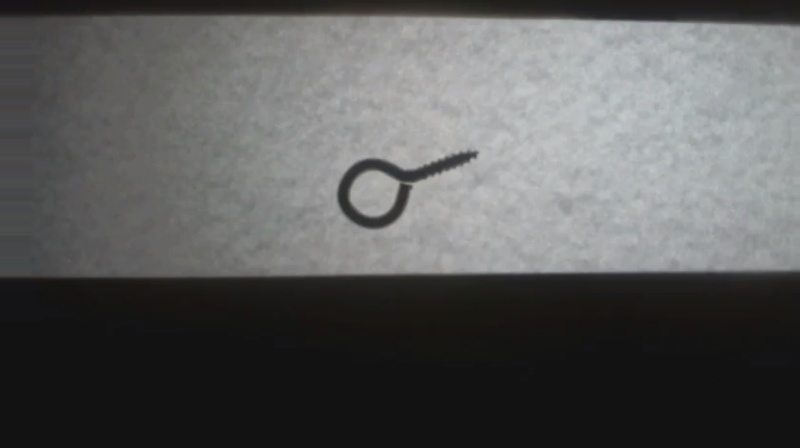O001: (332, 144, 482, 232)
